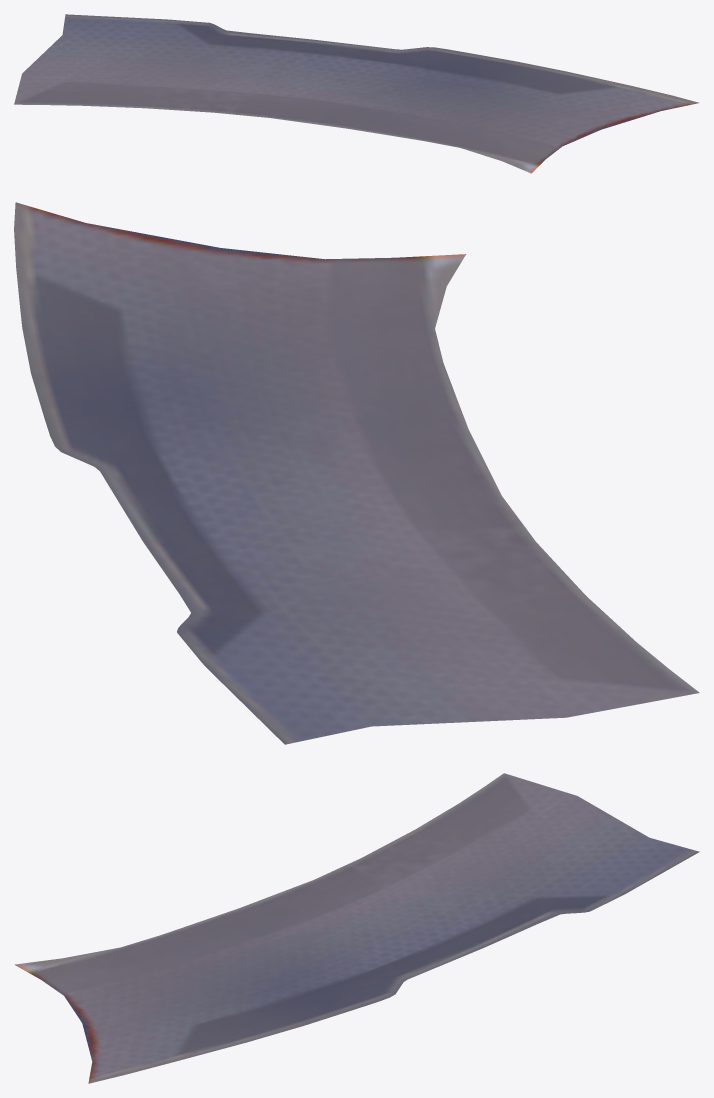
The model's file is pref_fx_redslowareaeffect_beta03_roadb_01_lv0.fbx.
3 views of the same model, one above another, from view 1: azimuth 30°, elevation 25°; view 2: azimuth 150°, elevation 25°; view 3: azimuth 270°, elevation 25° (orthographic). The views are drawn at different scales.
Visible parts, largest first — view 1: color (1); view 2: color (1); view 3: color (1).
Part boxes in pixels (x1=…): color (1): x1=14, y1=14, x2=698, y2=173; color (1): x1=14, y1=202, x2=699, y2=744; color (1): x1=14, y1=773, x2=699, y2=1083.
Size of the model in its own units: 20.22 by 0.0303 by 18.91.
